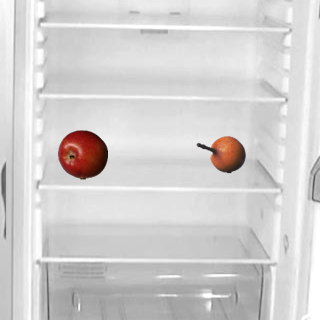Apple Braeburn: (57, 129, 107, 179)
Granadilla: (195, 129, 245, 179)
